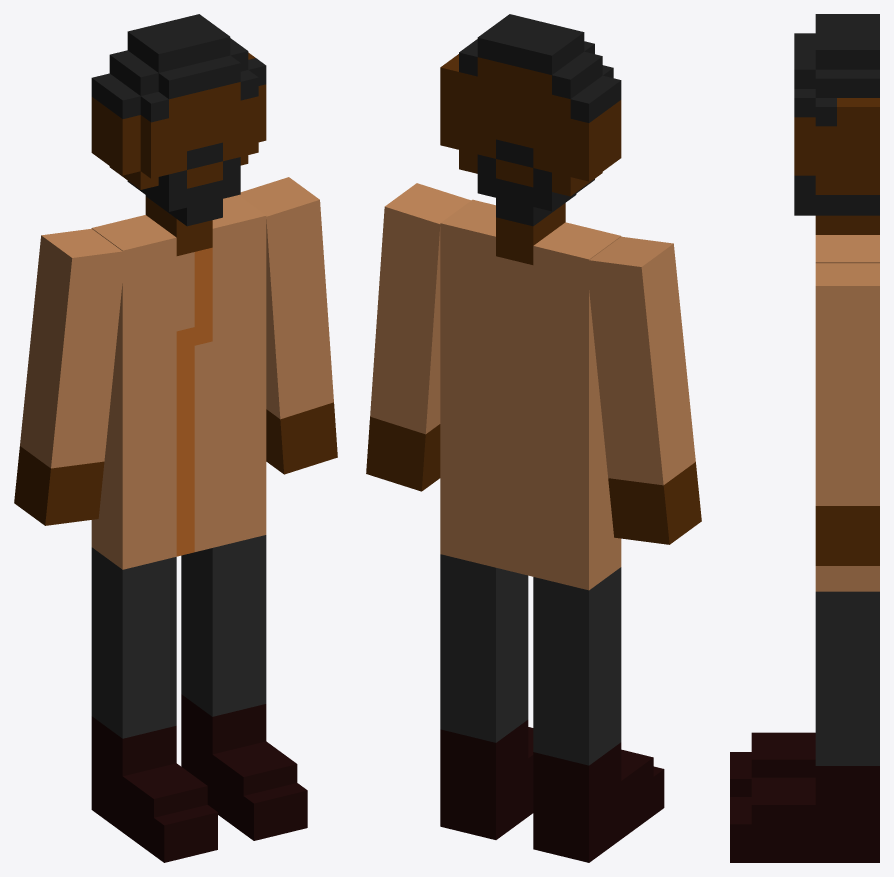
File: NPC_male_01.fbx
3 renders of one model, left to right at view 1: azimuth 30°, elevation 25°; view 2: azimuth 150°, elevation 25°; view 3: azimuth 270°, elevation 25°, orthographic. The views are drawn at different scales.
Visible parts, largest first — view 1: NPC_male_01; view 2: NPC_male_01; view 3: NPC_male_01.
Boxes of the visible parts, x1,y1,x2,y2 form: NPC_male_01: (14, 14, 337, 862); NPC_male_01: (366, 14, 701, 862); NPC_male_01: (730, 14, 879, 862).
Bounding box in the file's own units: 71.3 × 179 × 30.58.
